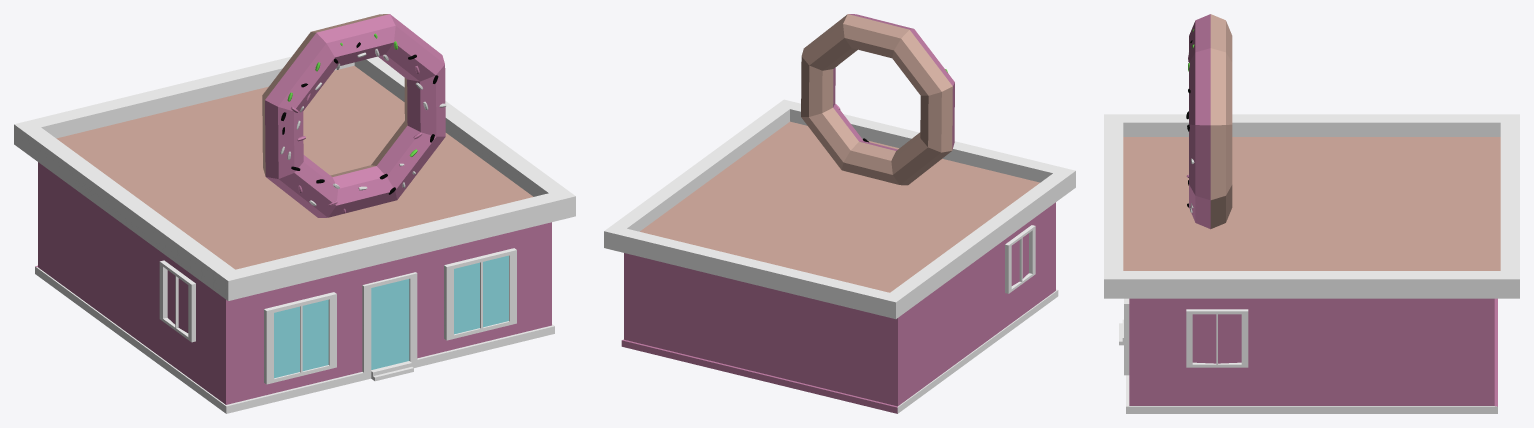
The model's file is sugar_house.fbx.
3 renders of one model, left to right at view 1: azimuth 30°, elevation 25°; view 2: azimuth 150°, elevation 25°; view 3: azimuth 270°, elevation 25°, orthographic. The views are drawn at different scales.
Parts seen in each view (by area): view 1: Cube, Cube.001; view 2: Cube, Cube.001; view 3: Cube, Cube.001.
Part boxes in pixels (bbox=[...]): Cube: bbox=[14, 56, 575, 413]; Cube.001: bbox=[262, 14, 446, 217]; Cube: bbox=[604, 99, 1075, 413]; Cube.001: bbox=[801, 14, 954, 185]; Cube: bbox=[1104, 114, 1519, 413]; Cube.001: bbox=[1186, 14, 1232, 229].
Size of the model in its own units: 452 by 395 by 483.
